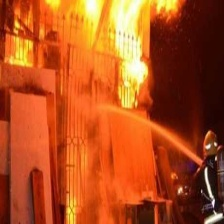fire: (48, 1, 190, 106)
